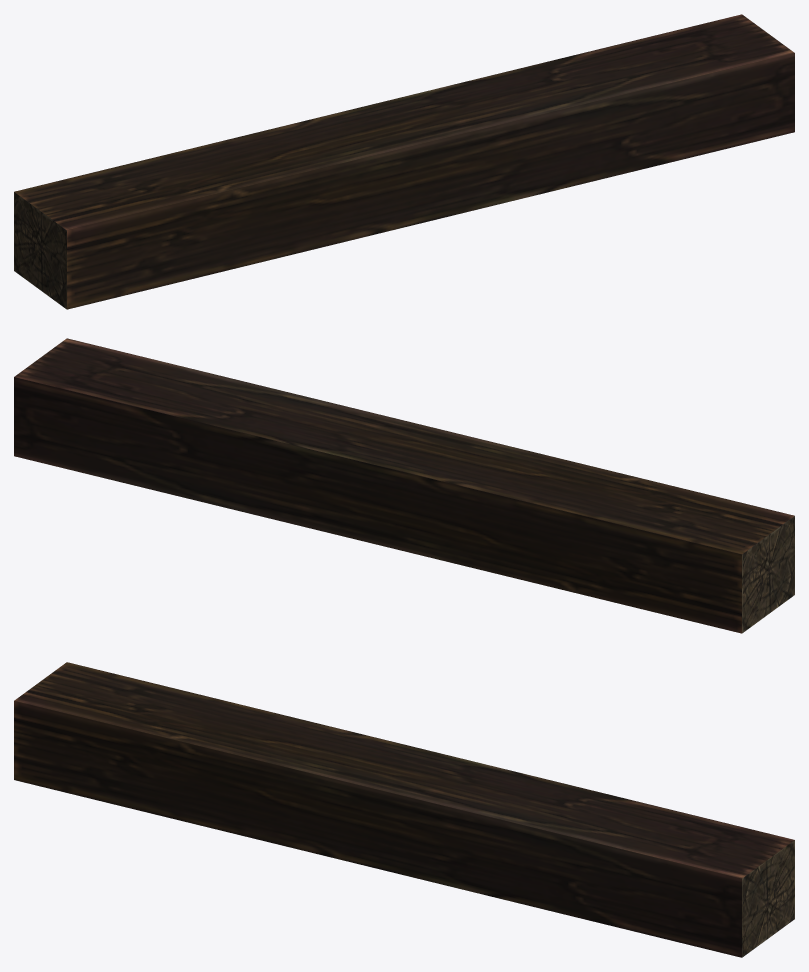
Rendered from B_mutiao006.fbx.
The picture shows the model from 3 angles, top to bottom: view 1: azimuth 30°, elevation 25°; view 2: azimuth 150°, elevation 25°; view 3: azimuth 330°, elevation 25°; orthographic projection.
Parts seen in each view (by area): view 1: B_mutiao006; view 2: B_mutiao006; view 3: B_mutiao006.
Boxes of the visible parts, x1,y1,x2,y2 form: B_mutiao006: [14, 14, 794, 309]; B_mutiao006: [14, 338, 794, 633]; B_mutiao006: [14, 662, 794, 957].
Bounding box in the file's own units: 290 × 30.26 × 36.57.
